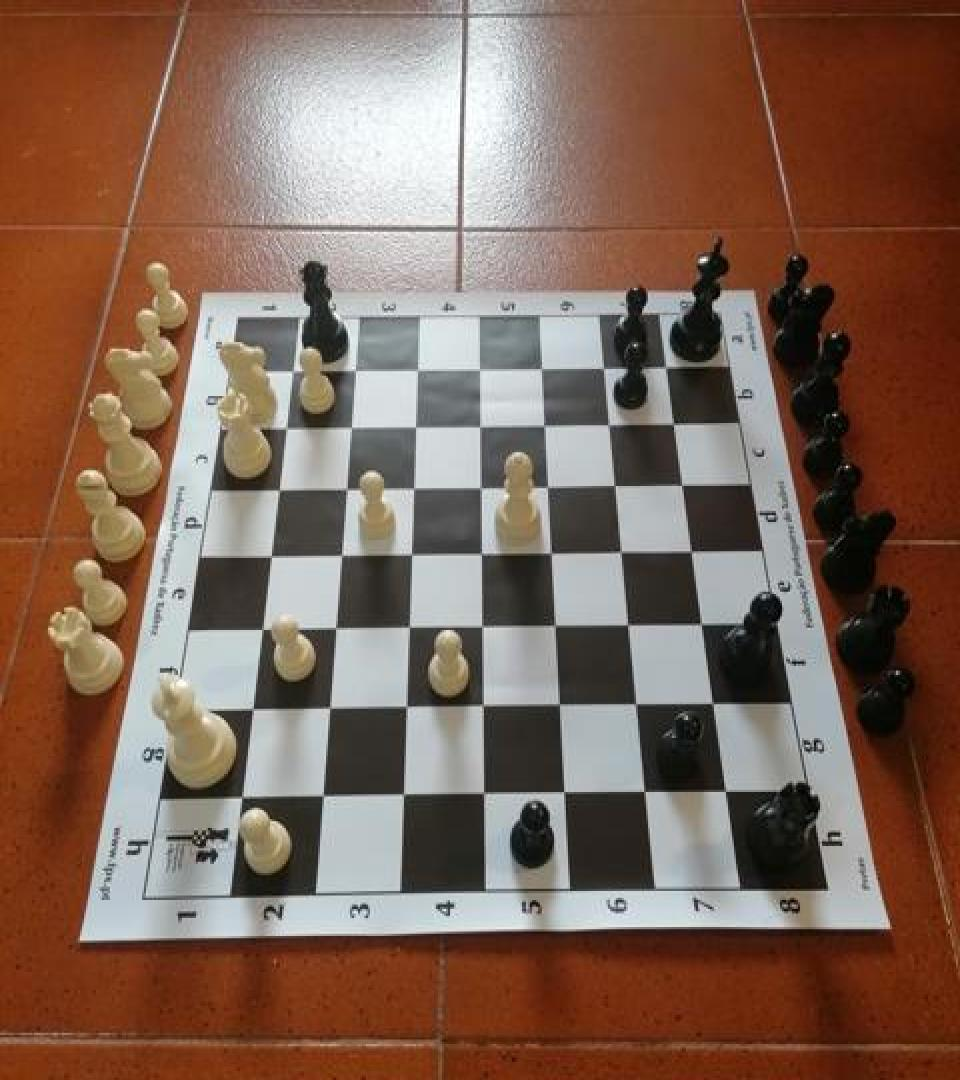xcorner: (467, 351, 495, 383), (405, 351, 433, 383), (342, 351, 370, 383), (280, 352, 308, 384), (662, 406, 690, 438), (598, 407, 626, 439), (533, 407, 561, 439), (468, 407, 496, 439), (403, 408, 431, 440), (338, 408, 366, 440), (273, 409, 301, 441), (671, 468, 699, 500), (604, 469, 632, 501), (536, 469, 564, 501), (469, 469, 497, 501), (401, 470, 429, 502), (333, 470, 361, 502), (265, 471, 293, 503), (681, 535, 709, 567), (610, 535, 638, 567), (322, 612, 350, 644), (248, 612, 276, 644), (703, 688, 731, 720), (626, 688, 654, 720), (238, 693, 266, 725), (715, 776, 743, 808), (634, 777, 662, 809), (553, 778, 581, 810), (472, 778, 500, 810), (654, 350, 682, 381), (592, 350, 620, 381), (530, 350, 558, 381), (540, 537, 568, 568), (470, 537, 498, 568), (399, 538, 427, 569), (328, 538, 356, 569), (257, 539, 285, 570), (691, 609, 719, 640), (618, 609, 646, 640), (544, 610, 572, 641), (470, 610, 498, 641), (396, 611, 424, 642), (549, 690, 577, 721), (471, 691, 499, 722), (394, 691, 422, 722), (316, 692, 344, 723), (391, 780, 419, 811), (309, 781, 337, 812), (228, 782, 256, 813)
